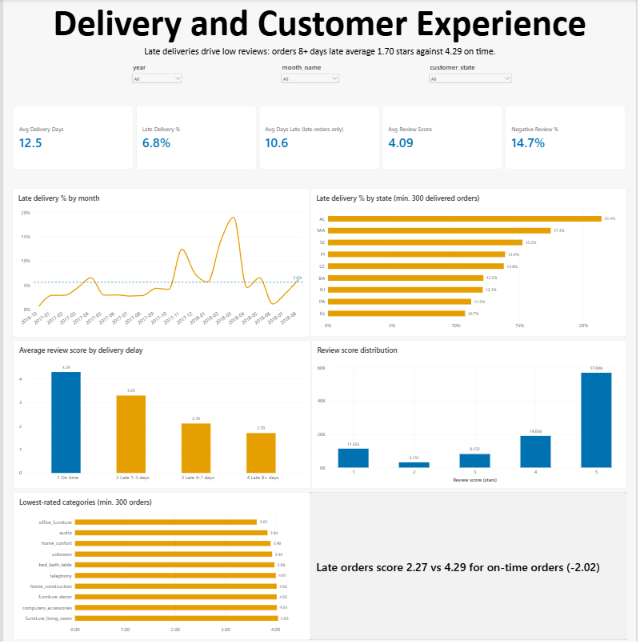

The dashboard page shown, as its layout file describes it:
{"tool":"powerbi","page":{"name":"4. Delivery and Experience","canvas":[1800,1840],"ordinal":3},"visuals":[{"type":"textbox","box":[27.5,0,1745,180],"z":0},{"type":"slicer","fields":{"Values":["dim_date.year"]},"box":[362.5,180,152.5,75],"z":1000},{"type":"slicer","fields":{"Values":["dim_date.month_name"]},"box":[785,180,175,75],"z":2000},{"type":"slicer","fields":{"Values":["fact_orders.customer_state"]},"box":[1207.5,180,245,75],"z":3000},{"type":"textbox","box":[902.5,1890,870,12.5],"z":8000},{"type":"cardVisual","fields":{"Data":["_Measures.Avg Delivery Days","_Measures.Late Delivery %","_Measures.Avg Days Late (late orders only)","_Measures.Avg Review Score","_Measures.Negative Review %"]},"box":[28,305,1745,180],"z":8001},{"type":"lineChart","title":"Late delivery % by month","fields":{"Category":["dim_date.year_month"],"Y":["_Measures.Late Delivery %"]},"box":[26.7,536.7,846.7,423.3],"z":8002},{"type":"clusteredBarChart","title":"Late delivery % by state (min. 300 delivered orders)","fields":{"Category":["fact_orders.customer_state"],"Y":["_Measures.Late Delivery %"]},"box":[872.5,537.5,900,422.5],"z":8003},{"type":"clusteredColumnChart","title":"Average review score by delivery delay","fields":{"Category":["fact_orders.delay_bucket"],"Y":["_Measures.Avg Review Score"]},"box":[27.5,970,847.5,422.5],"z":8004},{"type":"clusteredColumnChart","title":"Review score distribution","fields":{"Category":["fact_orders.review_score"],"Y":["_Measures.Reviewed Orders"]},"box":[875,970,897.5,422.5],"z":8005},{"type":"clusteredBarChart","title":"Lowest-rated categories (min. 300 orders)","fields":{"Category":["fact_order_items.category_en"],"Y":["_Measures.Avg Review (min 300 orders)"]},"box":[27.5,1402.5,847.5,422.5],"z":8006},{"type":"cardVisual","fields":{"Data":["_Measures.Insight: Late vs On-Time Review"]},"box":[872.5,1402.5,900,422.5],"z":8007}]}

Visuals, with their boxes in screenshot pixels (x1, y1, x2, y2), scaled from the page's 1800x1840 canvas onto the 638x642 screenshot:
textbox: select_region(10, 0, 628, 63)
slicer - dim_date.year: select_region(128, 63, 183, 89)
slicer - dim_date.month_name: select_region(278, 63, 340, 89)
slicer - fact_orders.customer_state: select_region(428, 63, 515, 89)
cardVisual - _Measures.Avg Delivery Days x _Measures.Late Delivery %: select_region(10, 106, 628, 169)
"Late delivery % by month" lineChart: select_region(9, 187, 310, 335)
"Late delivery % by state (min. 300 delivered orders)" clusteredBarChart: select_region(309, 188, 628, 335)
"Average review score by delivery delay" clusteredColumnChart: select_region(10, 338, 310, 486)
"Review score distribution" clusteredColumnChart: select_region(310, 338, 628, 486)
"Lowest-rated categories (min. 300 orders)" clusteredBarChart: select_region(10, 489, 310, 637)
cardVisual - _Measures.Insight: Late vs On-Time Review: select_region(309, 489, 628, 637)
